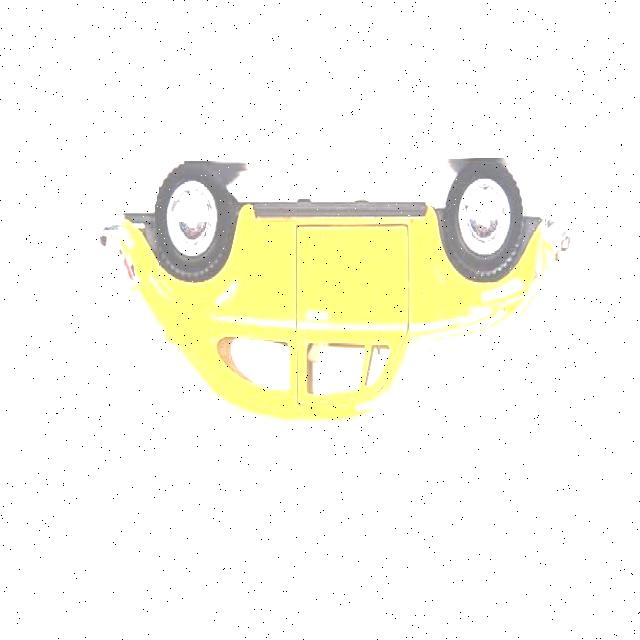car: (91, 156, 582, 419)
